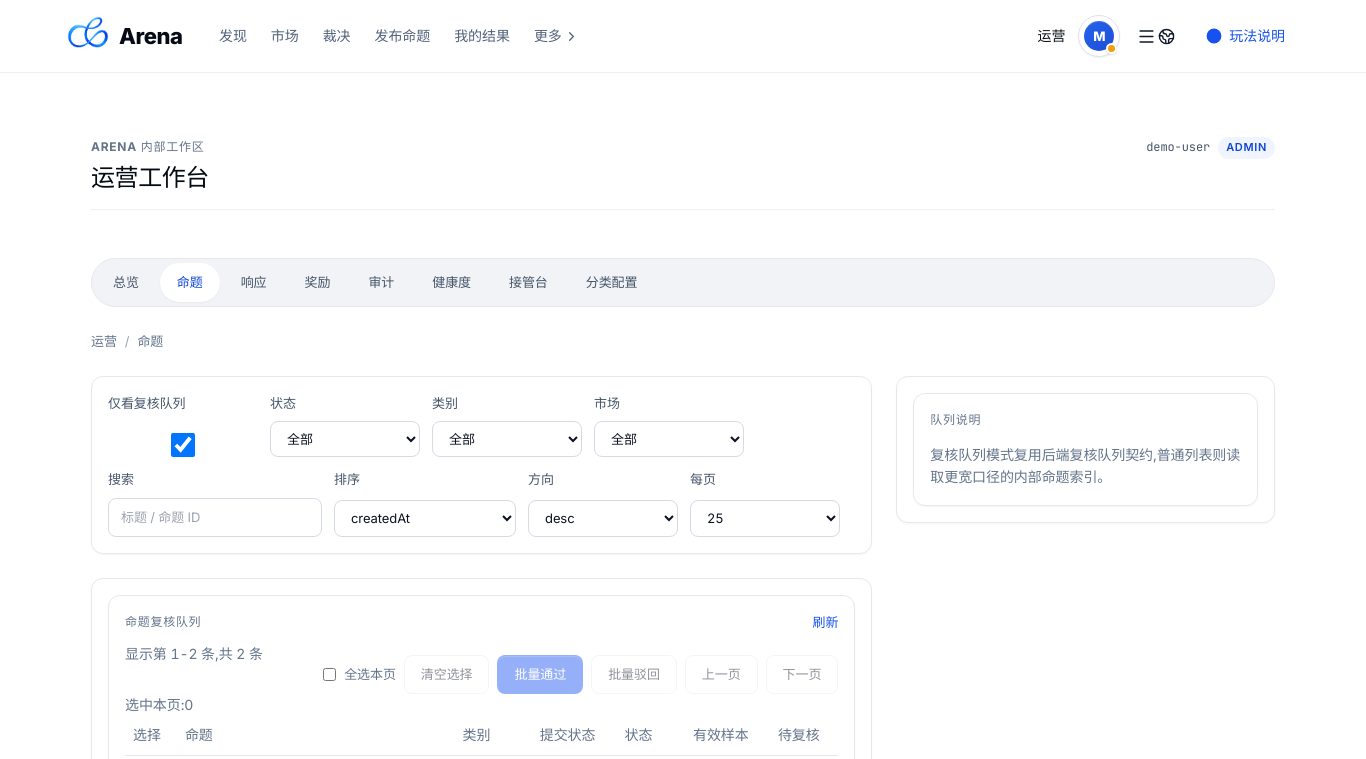
Test: OpsConsolePage › supports page-scoped batch approve actions on the proposition review queue
Expected: the text "命题复核队列" is shown, [125,612,201,631]
What coordinates should you click on to do the following:
click the checkbox named "全选本页命题"
I would click on:
 (330, 674)
Its box is [323,668,336,681].
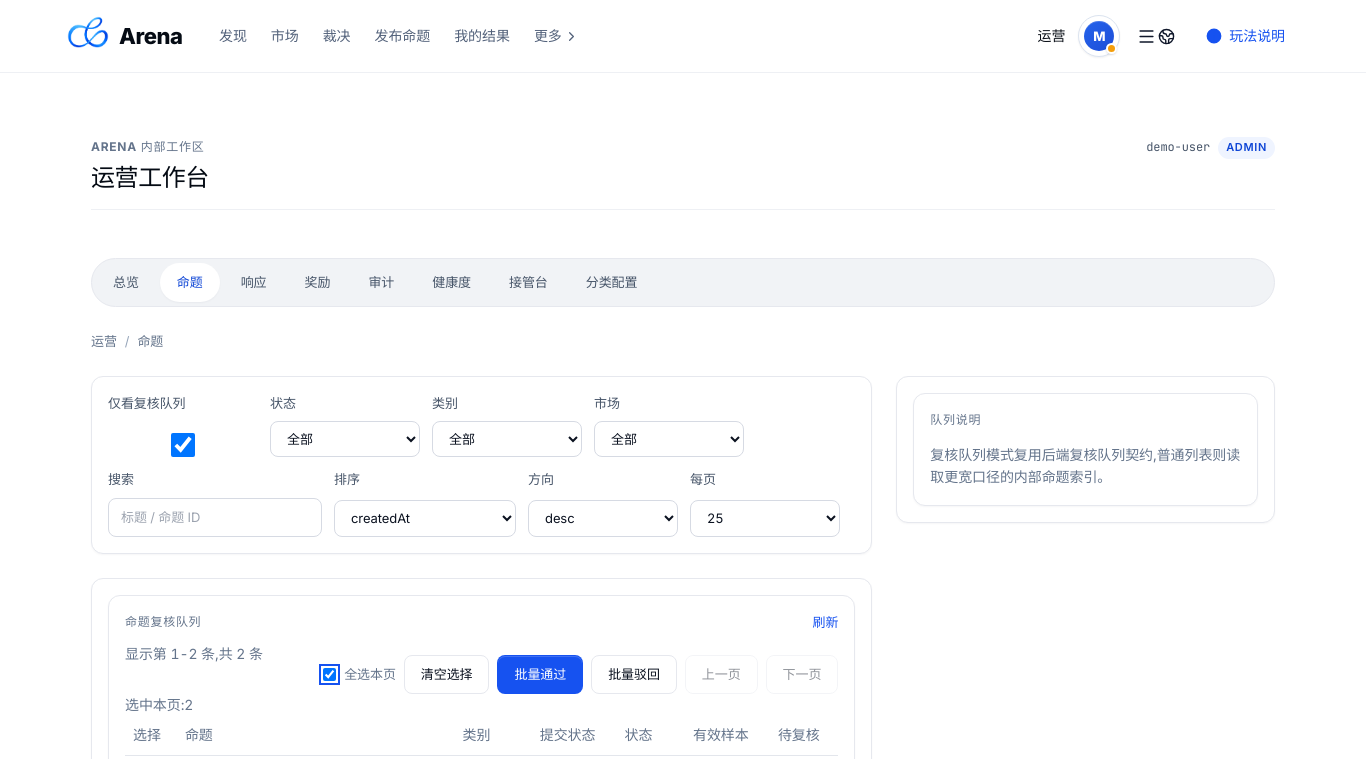
What coordinates should you click on to do the following:
click the button "批量通过"
I would click on:
 (540, 675)
Its box is [498,655,583,694].
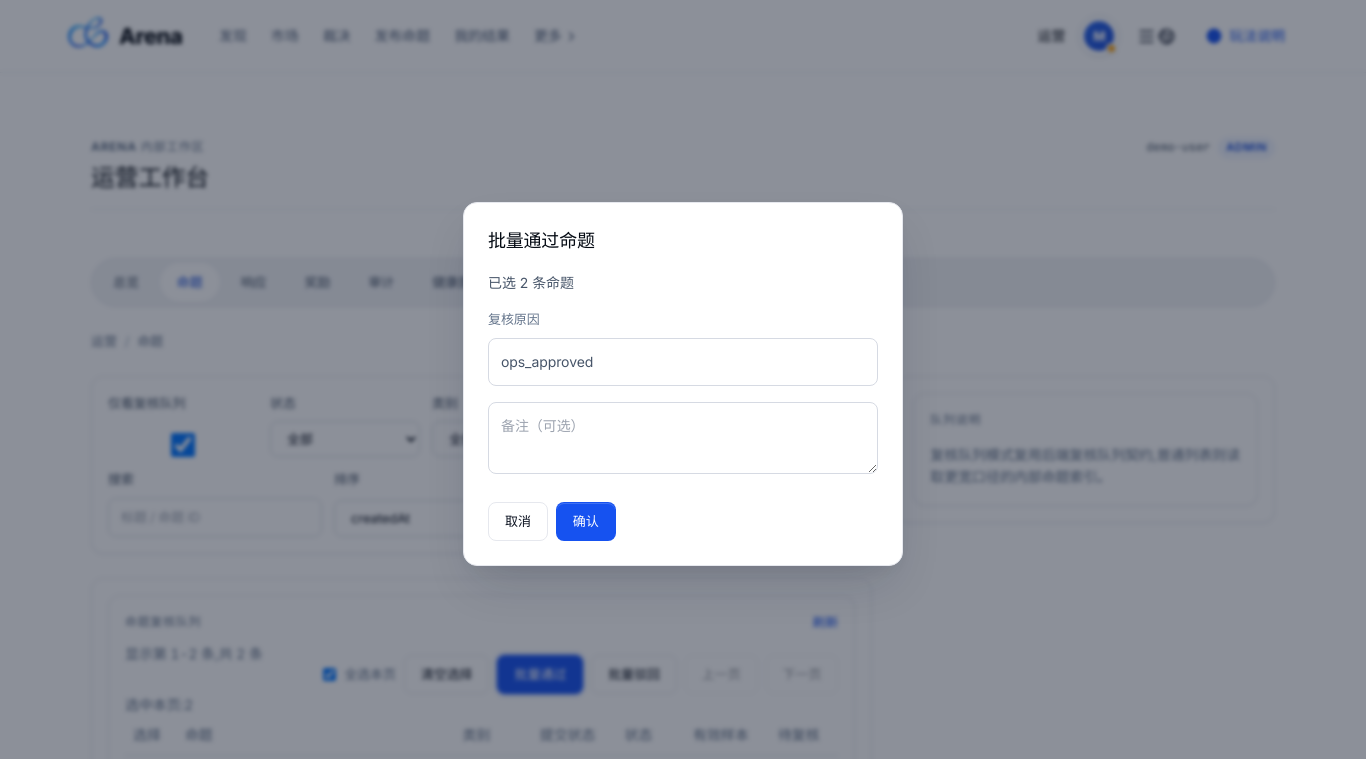
What coordinates should you click on to do the following:
click the button "确认"
I would click on:
 (586, 522)
Its box is [556,502,616,541].
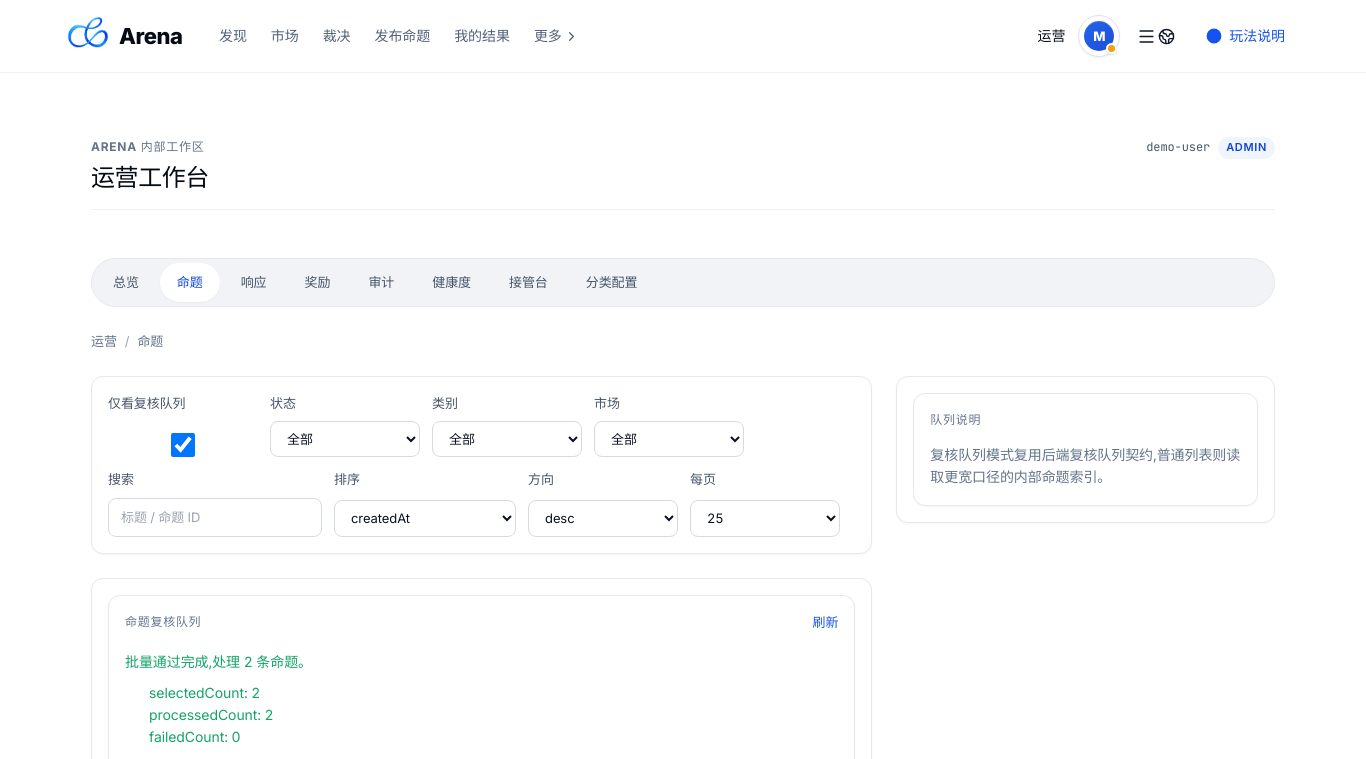
Expected: the list item "processedCount: 2" is shown, [149,706,274,723]
